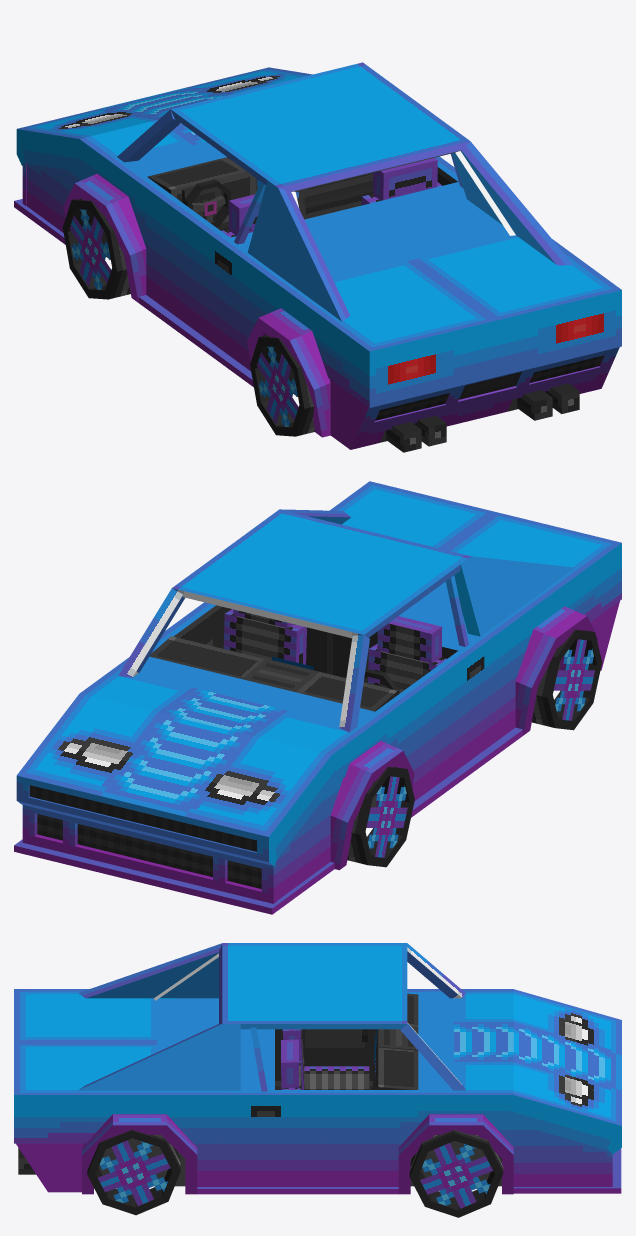
The model's file is NeonCar.glb.
3 renders of one model, top to bottom at view 1: azimuth 30°, elevation 25°; view 2: azimuth 150°, elevation 25°; view 3: azimuth 270°, elevation 25°, orthographic. The views are drawn at different scales.
Visible parts, largest first — view 1: Object_305; view 2: Object_305; view 3: Object_305.
Boxes of the visible parts, x1,y1,x2,y2 form: Object_305: (14,62,621,452); Object_305: (14,481,621,914); Object_305: (14,943,621,1217).
Size of the model in its own units: 3.13 by 2.23 by 6.36.
1 material, 1 textured.
